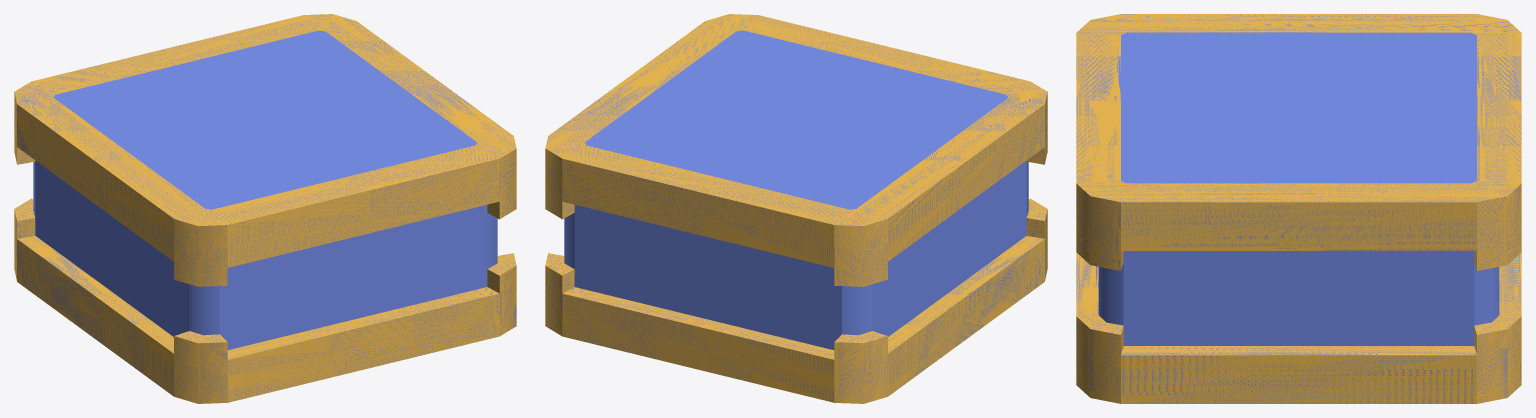
The model's file is blockMovingBlue.dae.
3 renders of one model, left to right at view 1: azimuth 30°, elevation 25°; view 2: azimuth 150°, elevation 25°; view 3: azimuth 270°, elevation 25°, orthographic. The views are drawn at different scales.
Parts seen in each view (by area): view 1: blockMovingBlue; view 2: blockMovingBlue; view 3: blockMovingBlue.
Boxes of the visible parts, x1,y1,x2,y2 form: blockMovingBlue: (14,14,516,403); blockMovingBlue: (545,14,1047,403); blockMovingBlue: (1076,14,1521,403).
Size of the model in its own units: 1 by 0.5 by 1.
